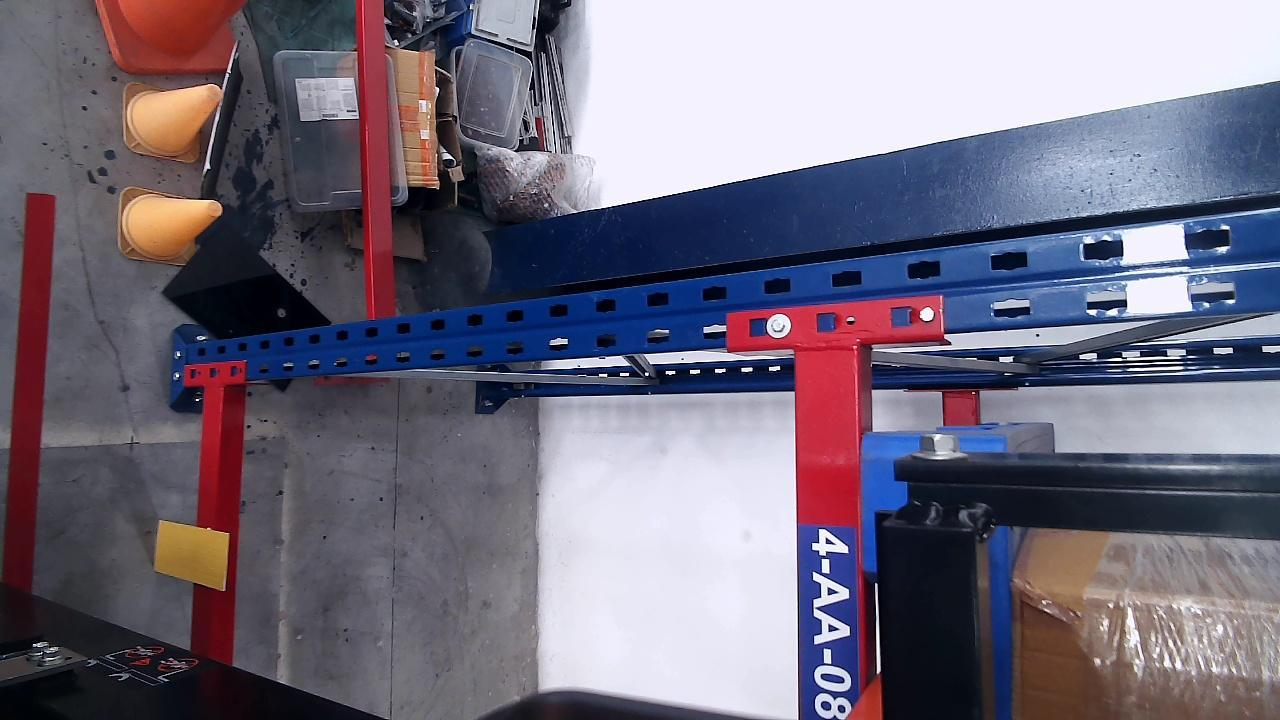h_rack: (795, 345, 870, 718), (191, 381, 225, 659)
orange_strip: (154, 521, 229, 590)
red_line: (2, 193, 56, 591)
